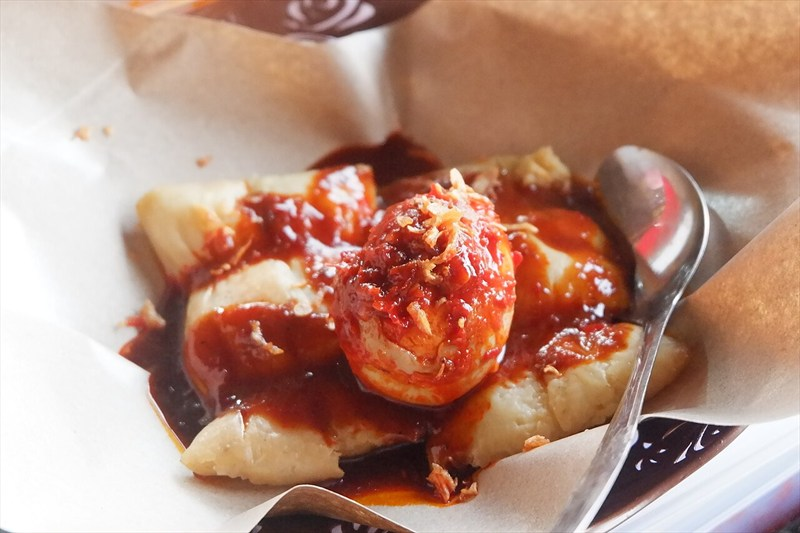Telur Balado: (177, 146, 688, 498)
